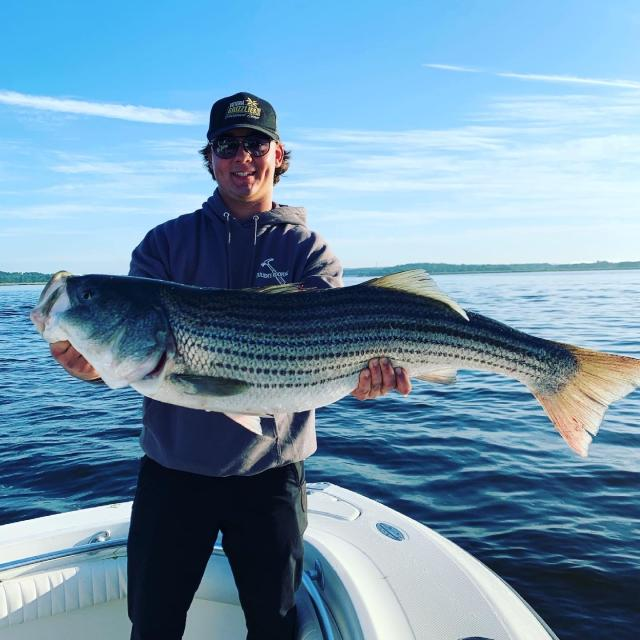Bass - Striped: (31, 270, 640, 456)
